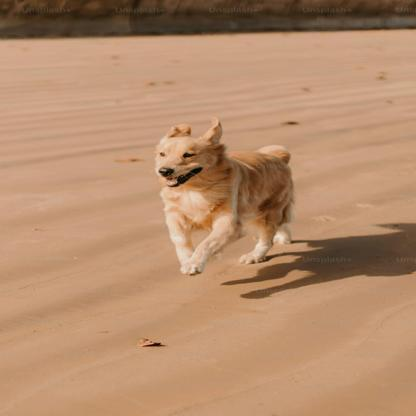dog: (145, 116, 317, 291)
